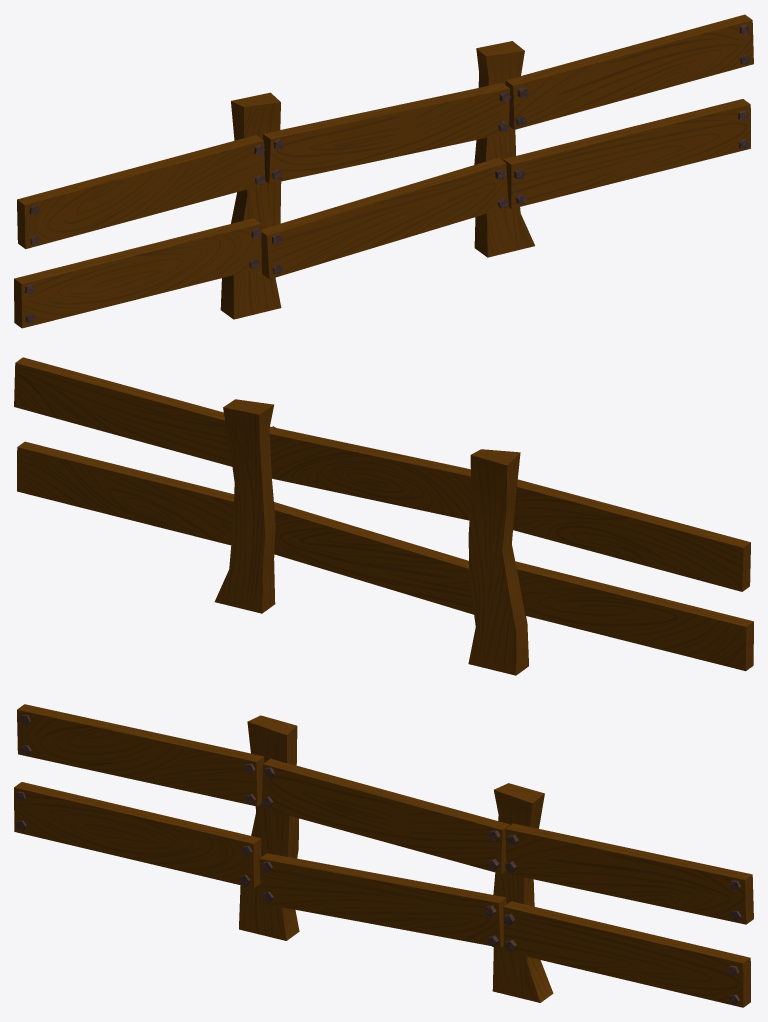
The model's file is Fence_Middle.fbx.
3 views of the same model, one above another, from view 1: azimuth 30°, elevation 25°; view 2: azimuth 150°, elevation 25°; view 3: azimuth 330°, elevation 25° (orthographic).
Parts seen in each view (by area): view 1: pCylinder33; view 2: pCylinder33; view 3: pCylinder33.
Part boxes in pixels (box(x1,y1,x2,y2)): pCylinder33: box(14, 14, 753, 328); pCylinder33: box(14, 357, 753, 675); pCylinder33: box(14, 704, 753, 1007).
Size of the model in its own units: 14.93 by 4.11 by 0.8027.
2 materials, 2 textured.
